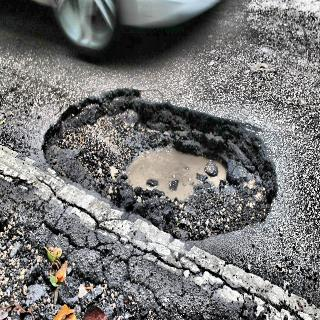alligator-crack: (120, 240, 252, 320), (74, 221, 158, 308), (29, 186, 115, 270)
pothole: (42, 85, 278, 243)
